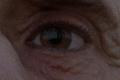eye: (42, 27, 71, 49)
